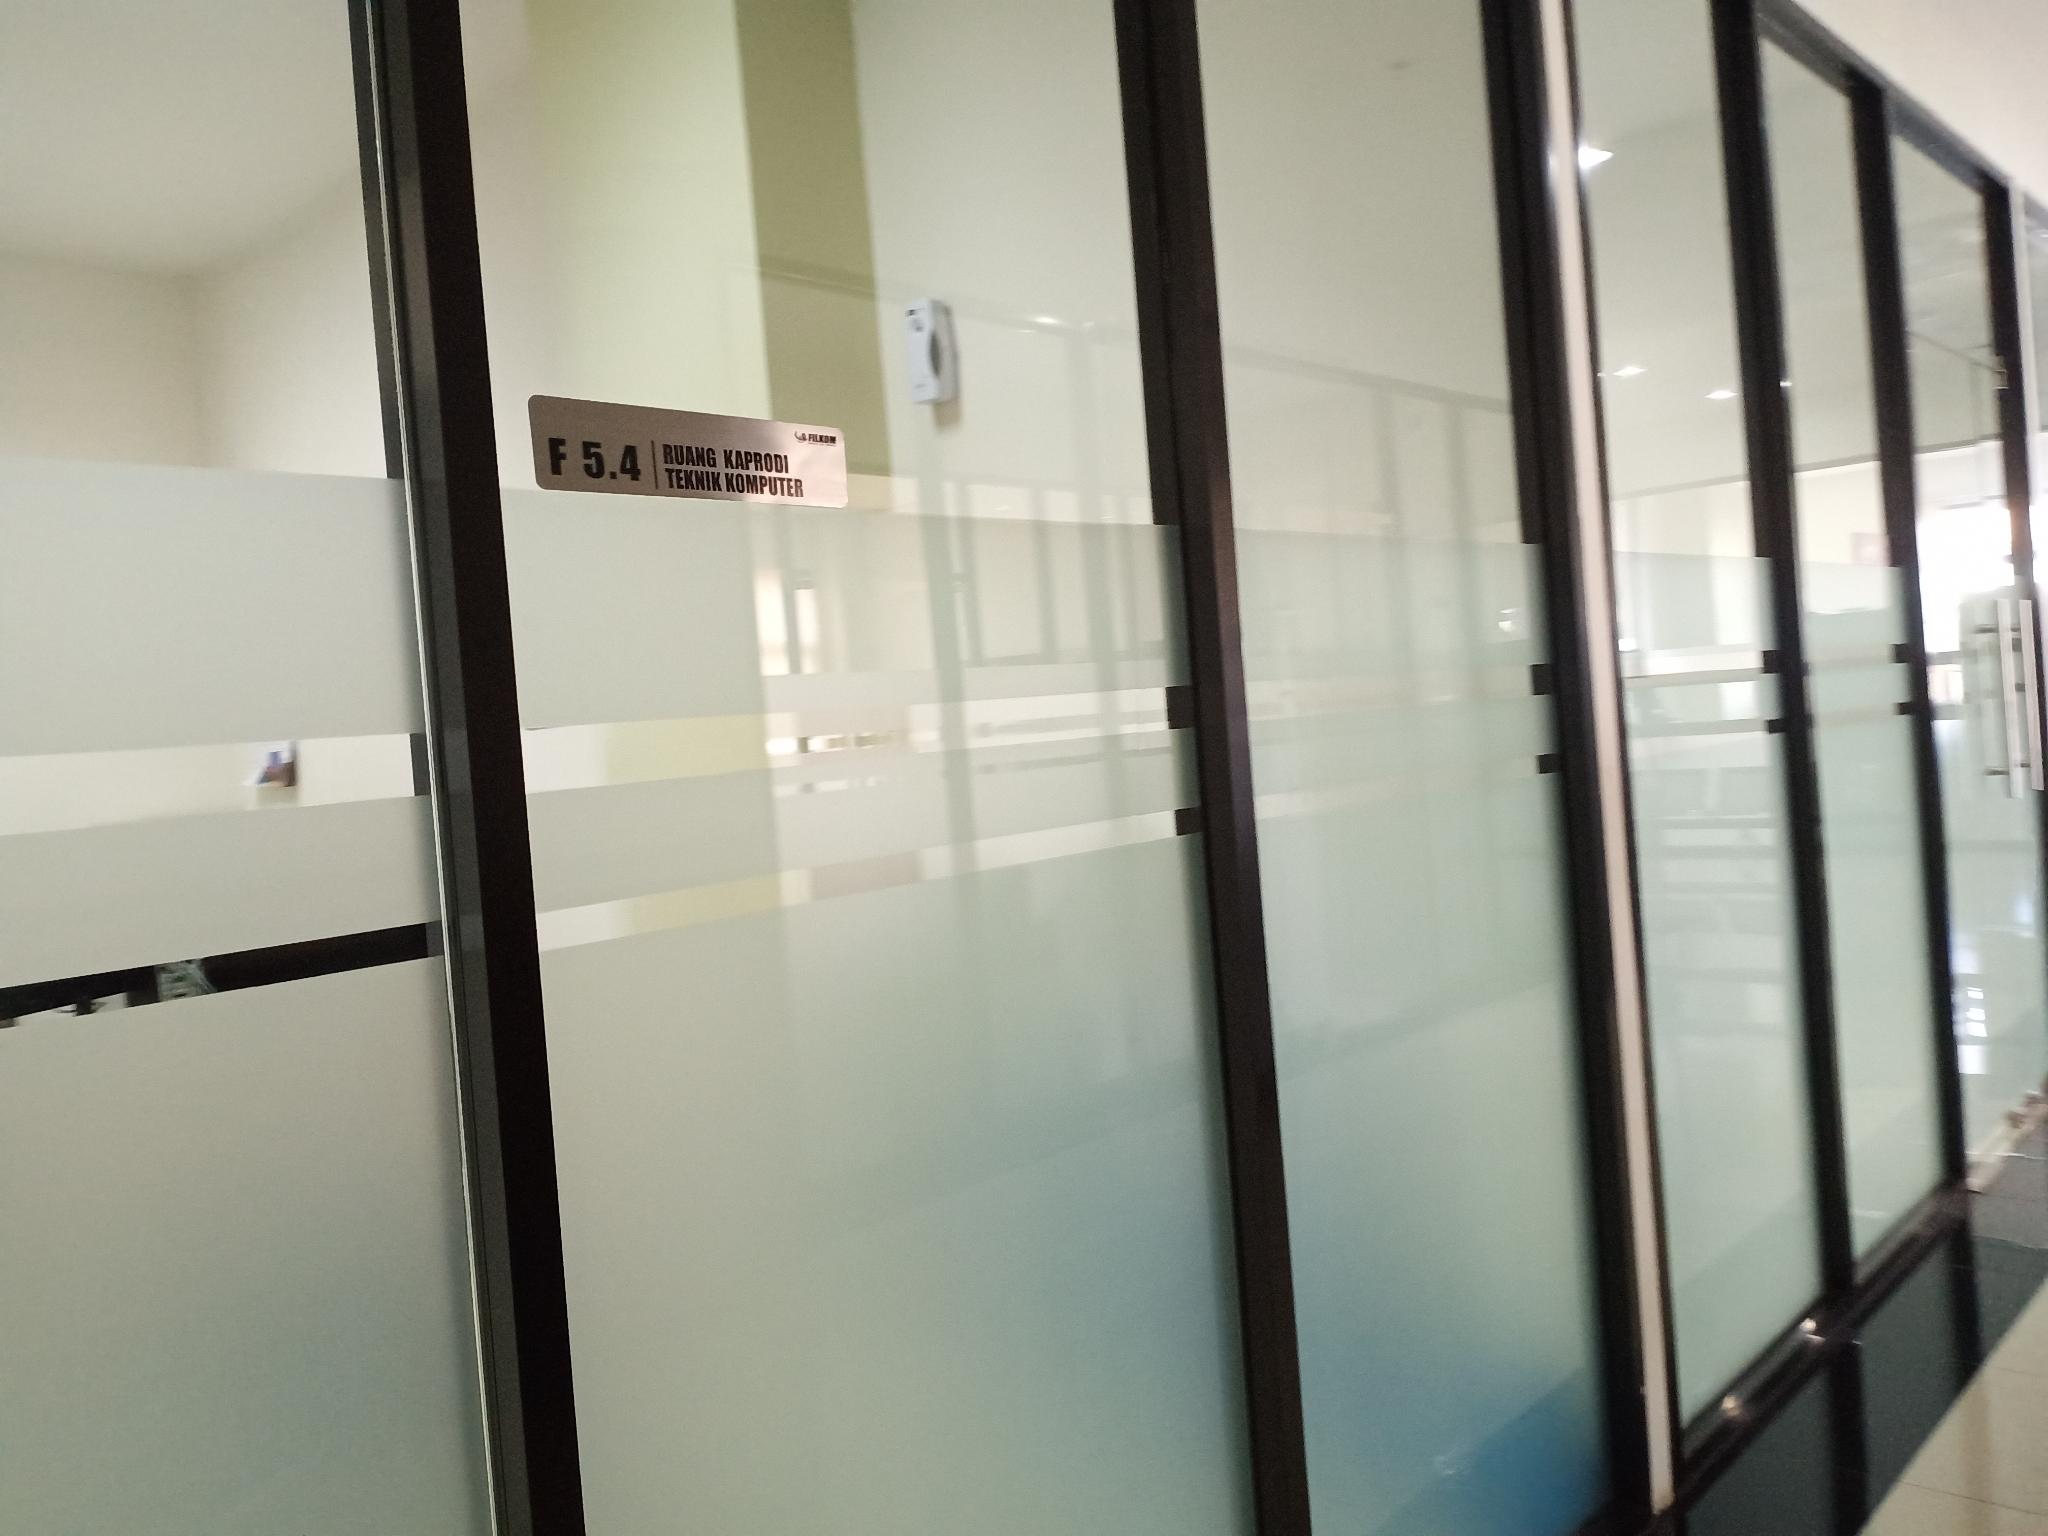plate: (526, 394, 850, 508)
